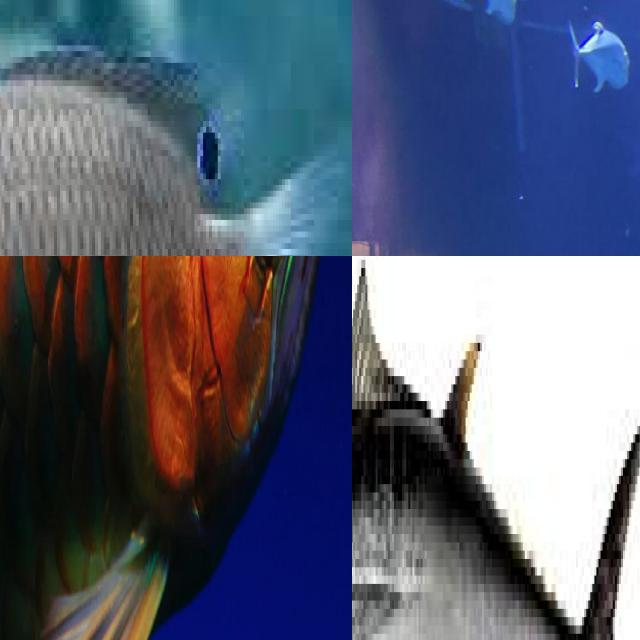fish: (0, 256, 352, 640), (352, 256, 640, 640), (0, 0, 352, 256), (352, 89, 449, 256)
